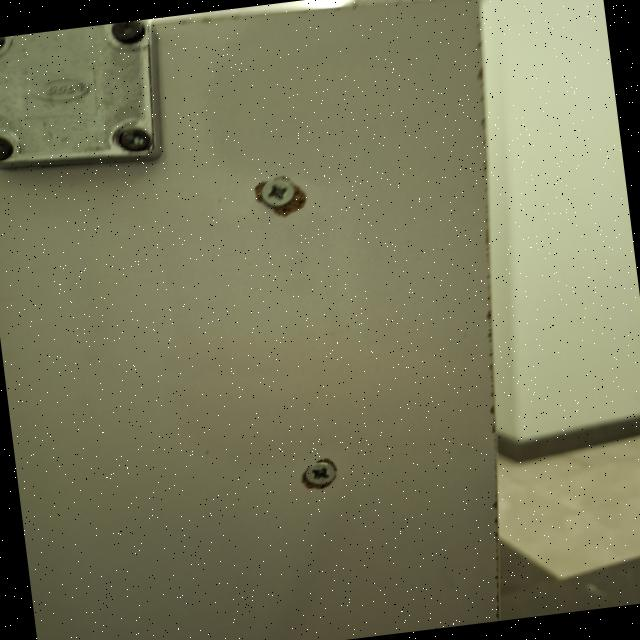Pozidriv: (257, 174, 301, 213), (306, 459, 336, 487)
